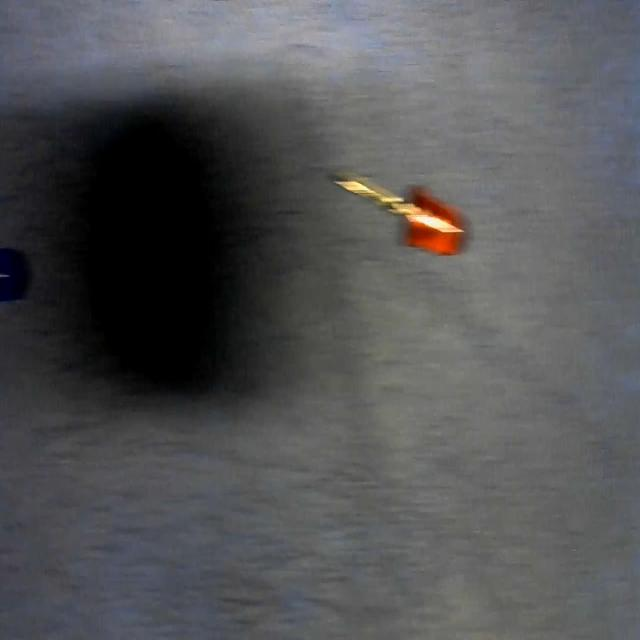LED: (328, 165, 466, 262)
